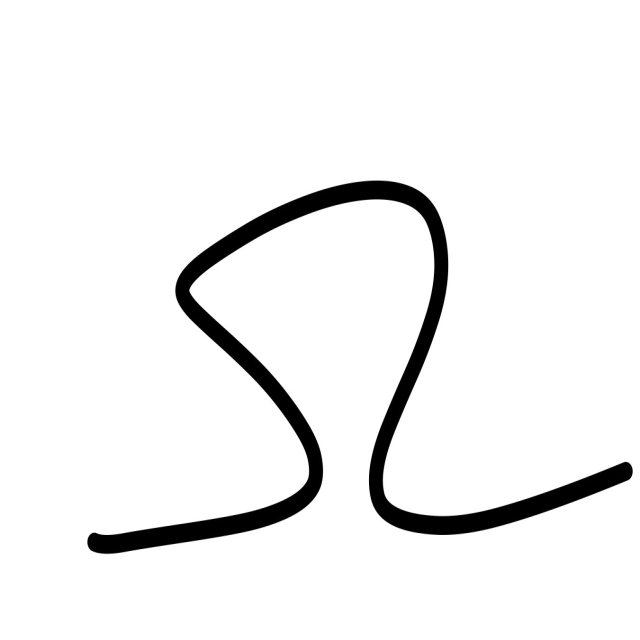ohms: (57, 129, 636, 629)
